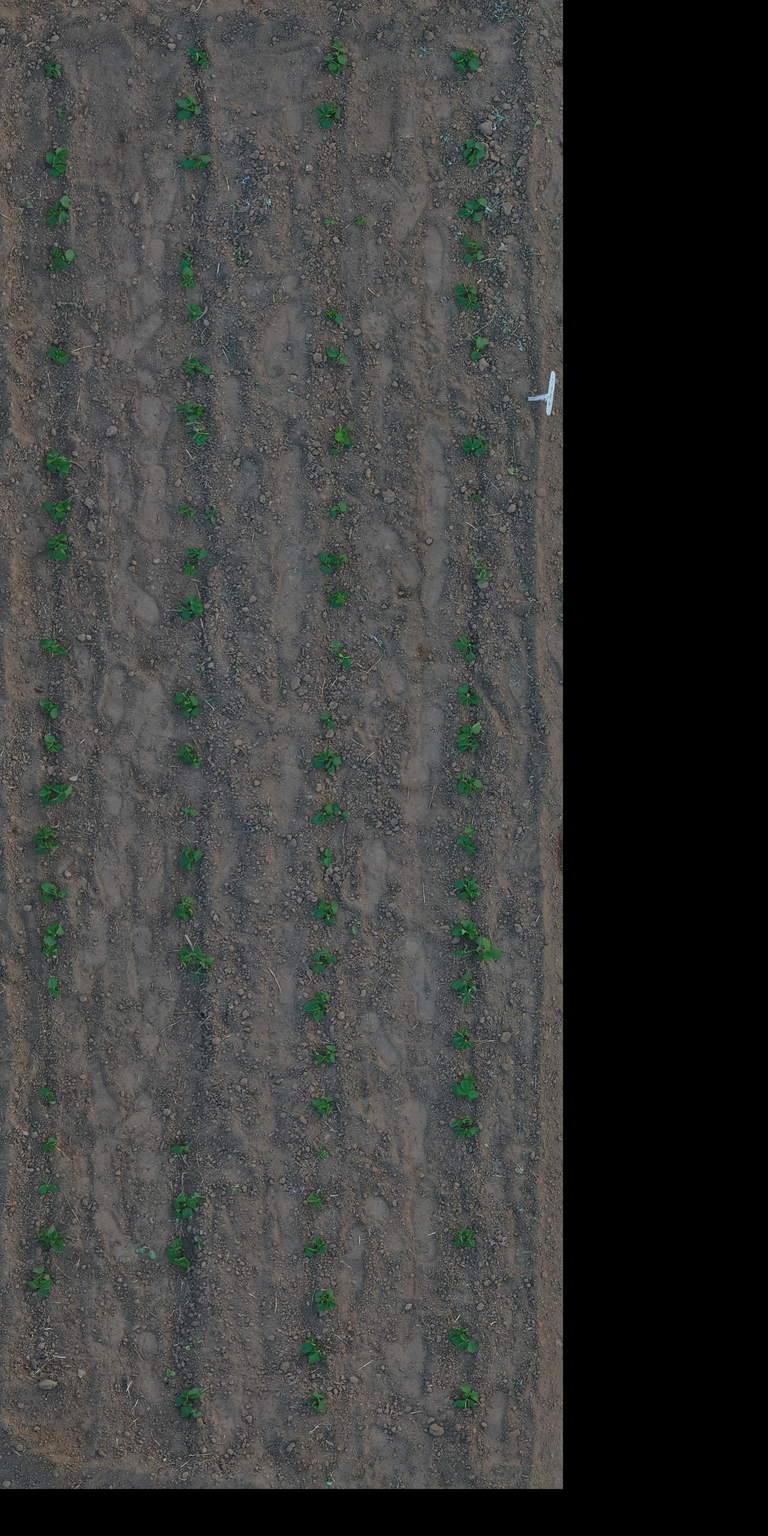s: (452, 935, 503, 962), (190, 944, 215, 982), (174, 1388, 202, 1418), (452, 634, 478, 662), (457, 682, 484, 708), (185, 420, 210, 446), (457, 722, 482, 747), (45, 152, 68, 177), (323, 39, 346, 64), (176, 1194, 198, 1219), (38, 638, 68, 656), (176, 402, 204, 421), (46, 1224, 65, 1252), (450, 972, 474, 994), (48, 783, 73, 804), (452, 920, 478, 940), (451, 1334, 478, 1353), (313, 803, 336, 825), (316, 1288, 337, 1312), (470, 335, 490, 360), (311, 748, 336, 768), (38, 780, 57, 806), (461, 774, 484, 795), (44, 461, 72, 478), (32, 826, 60, 843), (450, 1083, 476, 1101), (183, 154, 212, 170), (40, 882, 69, 898), (327, 588, 350, 608), (302, 1001, 325, 1021), (458, 984, 481, 1004), (462, 436, 486, 455), (456, 293, 481, 311), (27, 1280, 52, 1298), (46, 200, 63, 226), (182, 850, 204, 870), (56, 248, 76, 270), (47, 345, 70, 364), (42, 500, 61, 523), (326, 347, 349, 366), (58, 194, 72, 225), (315, 104, 332, 129), (327, 54, 348, 74), (456, 834, 477, 854), (41, 934, 60, 956), (318, 896, 340, 915), (55, 497, 72, 521), (305, 1241, 329, 1258), (458, 206, 483, 222), (39, 699, 59, 719), (46, 922, 66, 942), (179, 266, 197, 288), (318, 551, 335, 574), (176, 105, 202, 120), (466, 149, 486, 168), (332, 649, 352, 668), (32, 1228, 51, 1248), (300, 1334, 319, 1354), (46, 543, 67, 561), (463, 48, 480, 70), (312, 908, 334, 925), (454, 1126, 480, 1140), (181, 357, 200, 376), (460, 1079, 479, 1098), (44, 734, 64, 752), (182, 700, 202, 718), (456, 738, 480, 753), (458, 884, 482, 899), (181, 595, 202, 612), (459, 1384, 480, 1401), (450, 50, 466, 72), (184, 547, 209, 561), (34, 841, 59, 855), (332, 802, 351, 820), (474, 564, 491, 584), (306, 1188, 323, 1208), (176, 94, 197, 110), (46, 448, 67, 464), (47, 532, 68, 548), (172, 908, 196, 922), (179, 846, 194, 868), (50, 245, 63, 270), (324, 102, 342, 120), (329, 500, 347, 518), (308, 1346, 326, 1364), (192, 50, 209, 69), (462, 236, 485, 250), (451, 1037, 474, 1051), (318, 1096, 334, 1116), (180, 753, 201, 768), (327, 553, 348, 568), (447, 1326, 468, 1341), (464, 197, 488, 210), (454, 283, 478, 296), (453, 1397, 479, 1409), (38, 881, 52, 903), (455, 772, 469, 794), (186, 303, 203, 321), (320, 947, 338, 964), (334, 426, 350, 445), (178, 503, 198, 518), (32, 1265, 52, 1280), (312, 1049, 332, 1064), (453, 1227, 468, 1247), (311, 951, 324, 974), (178, 945, 192, 966), (38, 1180, 59, 1194), (173, 688, 190, 705), (38, 1086, 56, 1102), (462, 137, 475, 159), (461, 1228, 476, 1247), (464, 249, 484, 263), (178, 742, 195, 758), (320, 713, 336, 730), (166, 1238, 182, 1255), (54, 146, 69, 164), (40, 1137, 58, 1152), (170, 1142, 192, 1154), (312, 1391, 325, 1411), (182, 560, 198, 576), (176, 896, 192, 912), (179, 251, 194, 268), (311, 1098, 326, 1115), (44, 59, 58, 77), (464, 139, 485, 151), (194, 360, 212, 374), (48, 977, 60, 998), (454, 878, 472, 892), (170, 1256, 191, 1268), (328, 756, 342, 774), (180, 150, 196, 165), (452, 1116, 473, 1127), (324, 1044, 336, 1063), (464, 876, 478, 892), (182, 1408, 202, 1419), (476, 434, 488, 452), (452, 1027, 470, 1039), (189, 604, 204, 618), (321, 848, 332, 867), (314, 1290, 327, 1306), (178, 605, 191, 620), (328, 641, 344, 653), (314, 991, 330, 1003), (302, 1398, 318, 1410), (187, 46, 199, 61), (173, 1200, 182, 1220), (354, 214, 370, 225), (466, 553, 482, 564), (307, 1237, 324, 1247), (180, 807, 198, 816), (463, 824, 475, 837), (325, 308, 337, 320), (316, 1147, 329, 1158), (186, 695, 198, 706), (329, 444, 342, 454), (46, 264, 58, 273), (334, 312, 343, 324), (54, 64, 62, 76), (323, 218, 336, 224), (57, 107, 64, 117), (472, 493, 482, 500), (186, 320, 192, 328), (474, 538, 479, 542)
